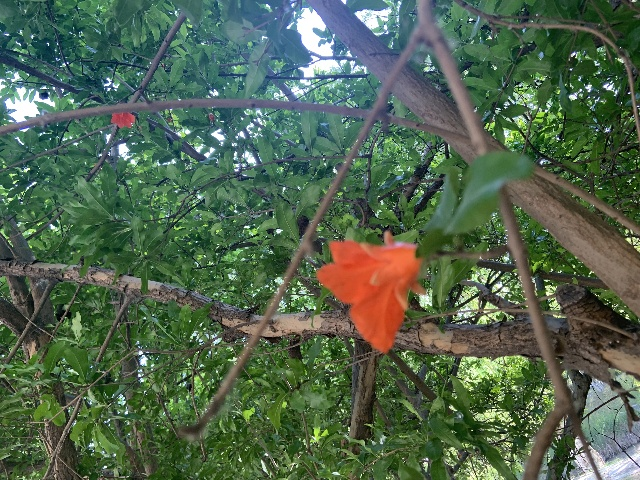bud: (208, 113, 214, 121)
flower: (317, 228, 424, 353), (110, 111, 135, 128)
